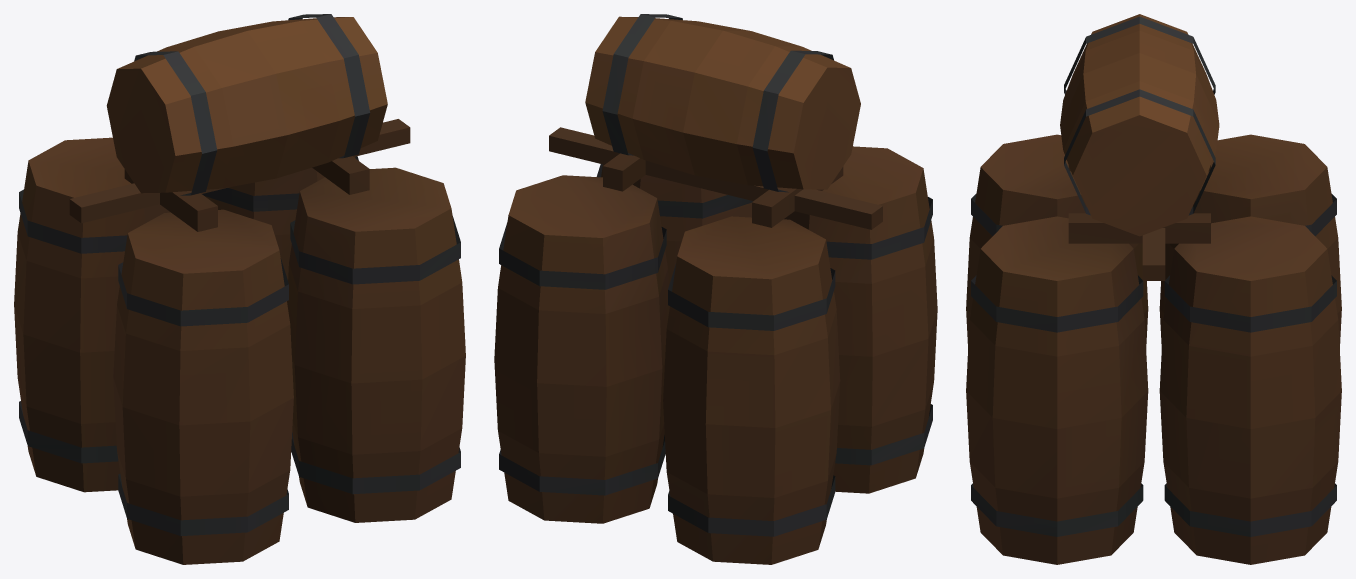
Rendered from rb_barrels-xFUQz0u5.glb.
3 renders of one model, left to right at view 1: azimuth 30°, elevation 25°; view 2: azimuth 150°, elevation 25°; view 3: azimuth 270°, elevation 25°, orthographic. The views are drawn at different scales.
Size of the model in its own units: 1.32 by 1.7 by 1.32.
